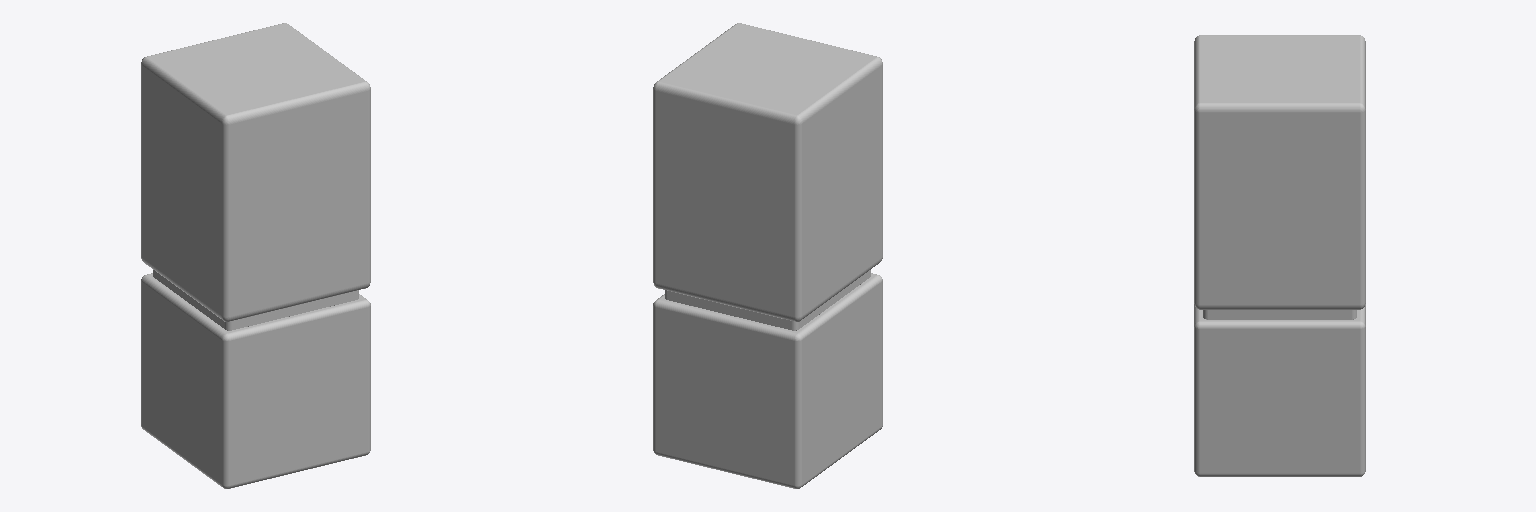
Rendered from tallDarkFlatSquare.obj.
3 renders of one model, left to right at view 1: azimuth 30°, elevation 25°; view 2: azimuth 150°, elevation 25°; view 3: azimuth 270°, elevation 25°, orthographic.
Visible parts, largest first — view 1: Cube.002_Cube.001, Cube_Cube.002, Cube.001_Cube.003; view 2: Cube.002_Cube.001, Cube_Cube.002, Cube.001_Cube.003; view 3: Cube.002_Cube.001, Cube_Cube.002, Cube.001_Cube.003.
Boxes of the visible parts, box(x1,y1,x2,y2) form: Cube.002_Cube.001: box(141, 23, 370, 321); Cube_Cube.002: box(141, 273, 370, 488); Cube.001_Cube.003: box(153, 270, 358, 330); Cube.002_Cube.001: box(653, 23, 882, 321); Cube_Cube.002: box(653, 273, 882, 488); Cube.001_Cube.003: box(665, 270, 870, 330); Cube.002_Cube.001: box(1194, 35, 1365, 309); Cube_Cube.002: box(1194, 304, 1365, 476); Cube.001_Cube.003: box(1203, 310, 1356, 319).
Bounding box in the file's own units: 2 × 4.81 × 2.